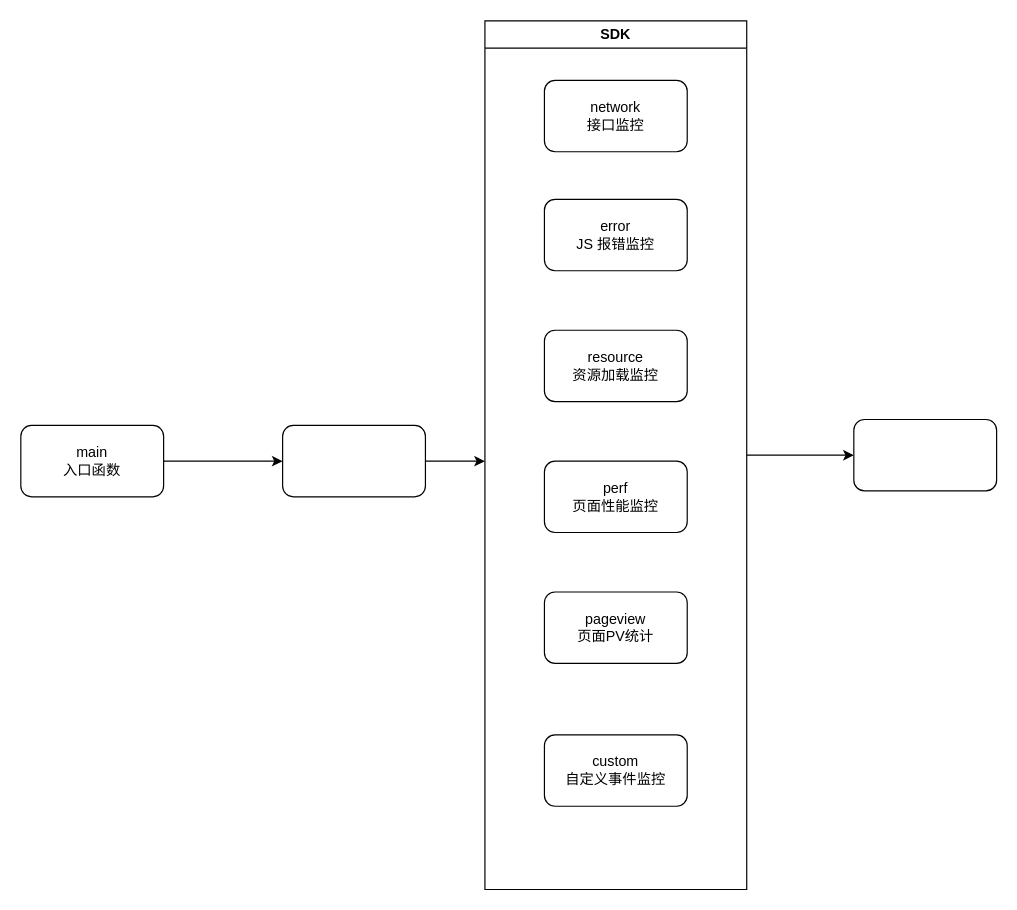
This 1017x910 diagram has some shape labels left out. Each missing label, with the centre of its shape:
"initSDK 初始化逻辑" belongs at point 353,460.
"send 数据上报" belongs at point 925,454.
